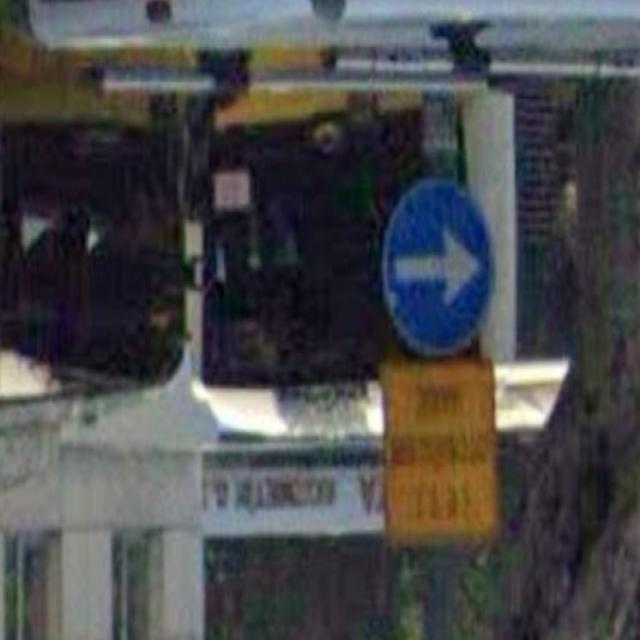Turn Right: (365, 176, 493, 353)
